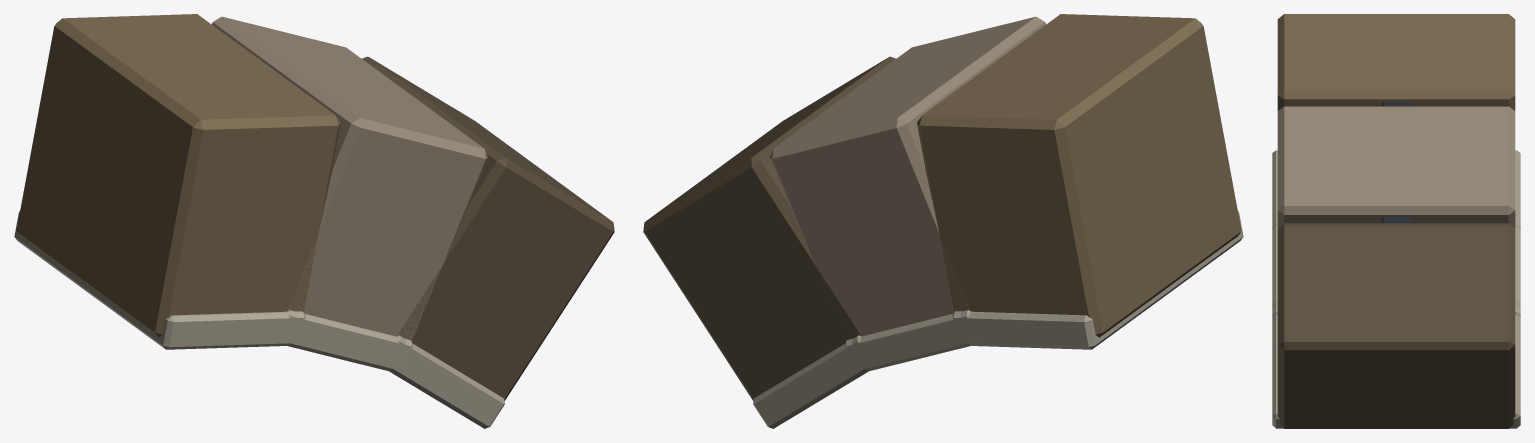
The model's file is mod_arch_voussoir_segment.glb.
The picture shows the model from 3 angles, left to right: view 1: azimuth 30°, elevation 25°; view 2: azimuth 150°, elevation 25°; view 3: azimuth 270°, elevation 25°; orthographic projection. The views are drawn at different scales.
Parts seen in each view (by area): view 1: Mod_Arch_Voussoir_Segment; view 2: Mod_Arch_Voussoir_Segment; view 3: Mod_Arch_Voussoir_Segment.
Boxes of the visible parts, x1,y1,x2,y2 form: Mod_Arch_Voussoir_Segment: [14, 14, 614, 428]; Mod_Arch_Voussoir_Segment: [643, 14, 1243, 428]; Mod_Arch_Voussoir_Segment: [1272, 14, 1520, 428].
Size of the model in its own units: 0.9422 by 0.7315 by 0.544.
